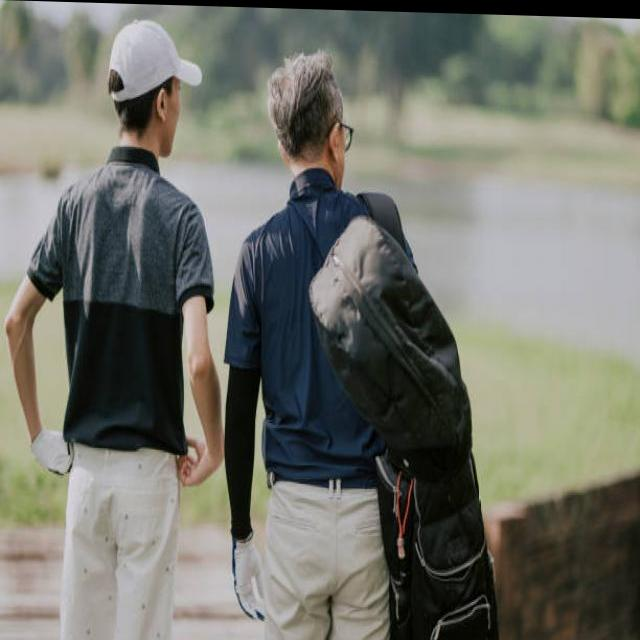no helmet: (100, 2, 207, 178)
